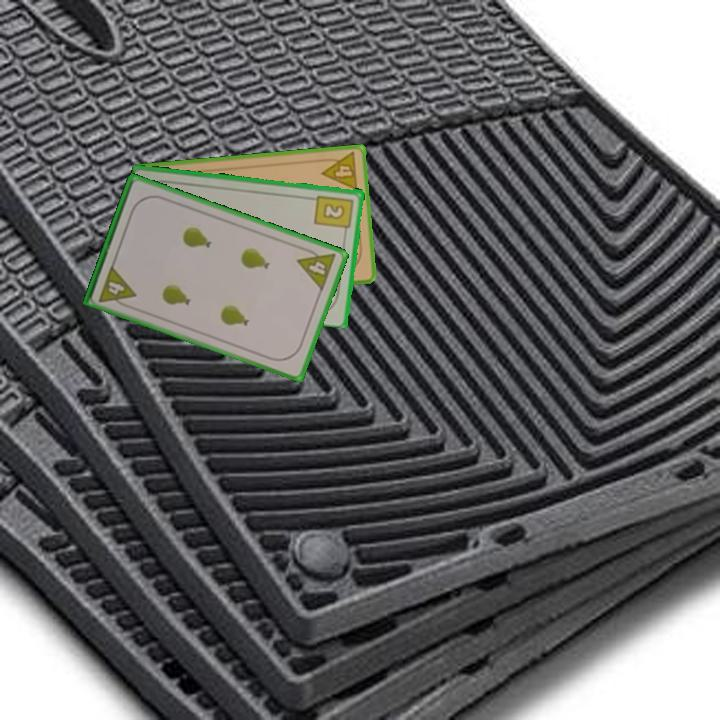2b: (312, 192, 356, 237)
4p: (294, 243, 339, 293), (95, 262, 139, 311), (317, 149, 360, 193)
